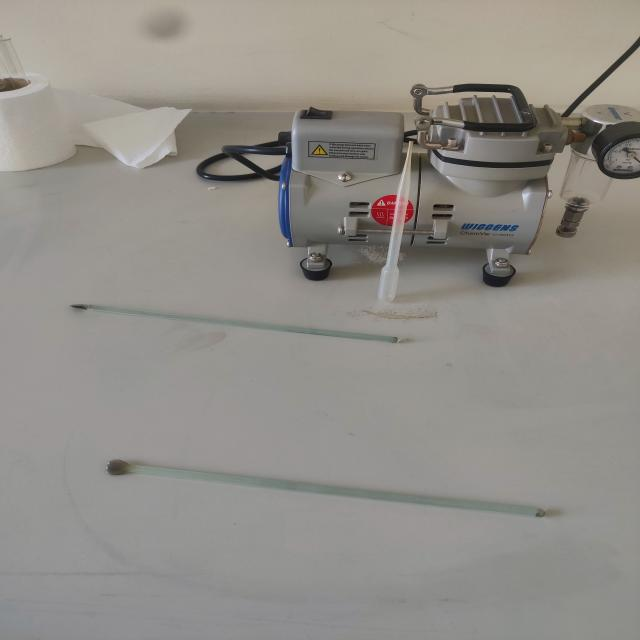Glass_Rod: (86, 435, 567, 554), (69, 285, 420, 368)
Pipette: (356, 135, 438, 317)
